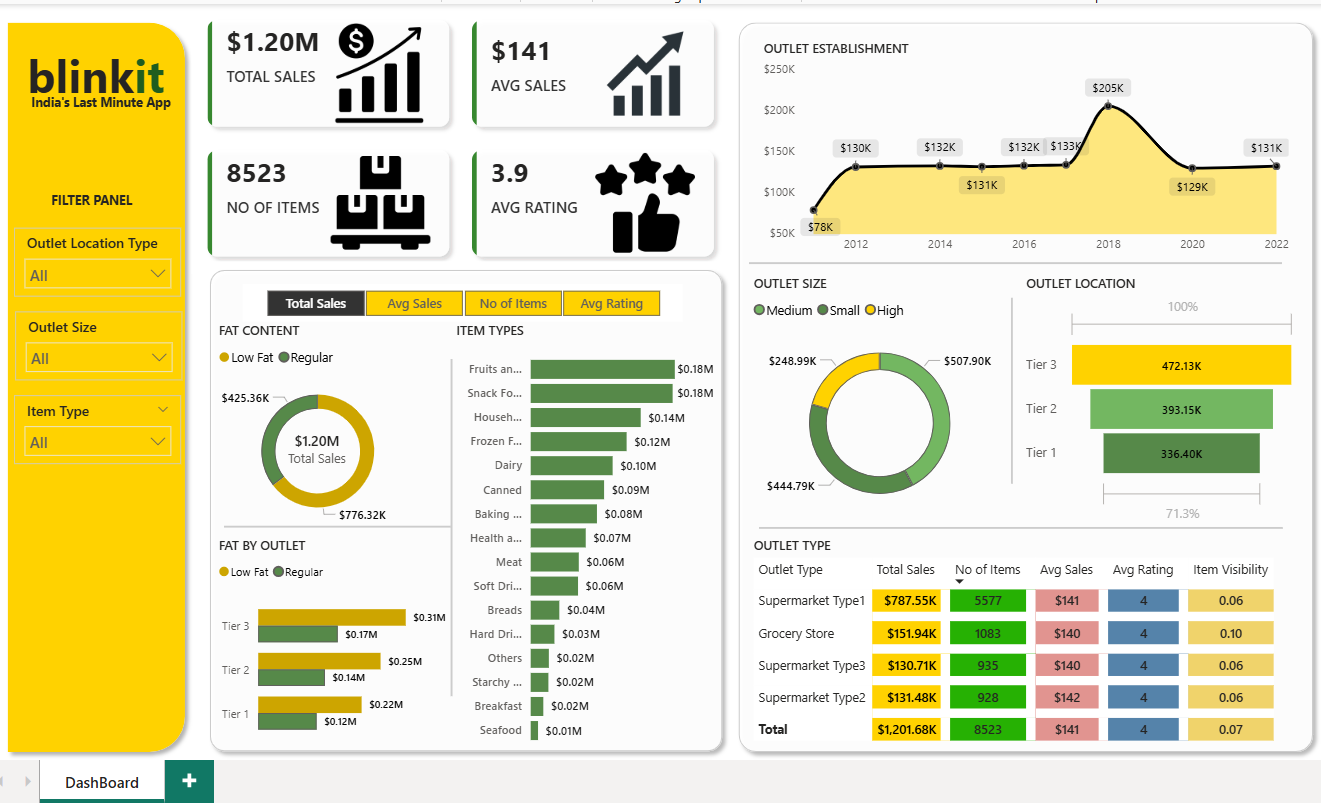

This screenshot's page, from the dashboard's own definition file:
{"tool":"powerbi","page":{"name":"DashBoard","canvas":[1400,800],"ordinal":0},"visuals":[{"type":"shape","box":[0,10,205.7,790],"z":0},{"type":"cardVisual","fields":{"Data":["BlinkIT Grocery Data.TOTAL Sales","BlinkIT Grocery Data.AVG SALES","BlinkIT Grocery Data.NO OF ITEMS","BlinkIT Grocery Data.Avg Rating"]},"box":[204.3,0,570,285.7],"z":1000},{"type":"shape","box":[214.3,272.9,560,527.1],"z":2000},{"type":"donutChart","title":"FAT CONTENT","fields":{"Y":["BlinkIT Grocery Data.Total Sales"],"Category":["BlinkIT Grocery Data.Item Fat Content"]},"box":[227.1,335.7,220,227.1],"z":3000},{"type":"slicer","fields":{"Values":["Matrics.Matrics"]},"box":[258.6,295.7,465.7,40],"z":4000},{"type":"cardVisual","fields":{"Data":["BlinkIT Grocery Data.Total Sales"]},"box":[280,418.6,112.9,105.7],"z":5000},{"type":"clusteredBarChart","title":"FAT BY OUTLET","fields":{"Y":["BlinkIT Grocery Data.Total Sales"],"Category":["BlinkIT Grocery Data.Outlet Location Type"],"Series":["BlinkIT Grocery Data.Item Fat Content"]},"box":[227.1,562.9,251.4,230],"z":6000},{"type":"shape","box":[238.6,524.3,240,58.6],"z":7000},{"type":"shape","box":[460,375.7,37.1,357.1],"z":8000},{"type":"barChart","title":"ITEM TYPES","fields":{"Y":["BlinkIT Grocery Data.Total Sales"],"Category":["BlinkIT Grocery Data.Item Type"]},"box":[478.6,335.7,282.9,458.6],"z":9000},{"type":"shape","box":[774.3,10,625.7,790],"z":10000},{"type":"lineChart","title":" OUTLET ESTABLISHMENT","fields":{"Y":["BlinkIT Grocery Data.Total Sales"],"Category":["BlinkIT Grocery Data.Outlet Establishment Year"]},"box":[804.3,37.1,565.7,235.7],"z":11000},{"type":"shape","box":[794.3,241.4,564.3,64.3],"z":12000},{"type":"donutChart","title":"OUTLET SIZE","fields":{"Y":["BlinkIT Grocery Data.Total Sales"],"Category":["BlinkIT Grocery Data.Outlet Size"]},"box":[794.3,285.7,277.1,268.6],"z":13000},{"type":"shape","box":[1057.1,311.4,30,197.1],"z":14000},{"type":"funnel","title":"OUTLET LOCATION","fields":{"Y":["Sum(BlinkIT Grocery Data.Sales)"],"Category":["BlinkIT Grocery Data.Outlet Location Type"]},"box":[1081.4,285.7,295.7,268.6],"z":15000},{"type":"pivotTable","title":"OUTLET TYPE","fields":{"Rows":["BlinkIT Grocery Data.Outlet Type"],"Values":["BlinkIT Grocery Data.Total Sales","BlinkIT Grocery Data.No of Items","BlinkIT Grocery Data.Avg Sales","BlinkIT Grocery Data.Avg Rating","Avg(BlinkIT Grocery Data.Item Visibility)"]},"box":[794.3,562.9,592.9,225.7],"z":16000},{"type":"shape","box":[804.3,525.7,554.3,58.6],"z":17000},{"type":"textbox","box":[20,37.1,165.7,82.9],"z":18000},{"type":"textbox","box":[28.8,90,166.2,38.8],"z":19000},{"type":"slicer","fields":{"Values":["BlinkIT Grocery Data.Outlet Location Type"]},"box":[15.7,237.1,177.1,72.9],"z":20000},{"type":"slicer","fields":{"Values":["BlinkIT Grocery Data.Outlet Size"]},"box":[17.1,325.7,177.1,72.9],"z":21000},{"type":"slicer","fields":{"Values":["BlinkIT Grocery Data.Item Type"]},"box":[15.7,414.3,177.1,72.9],"z":22000},{"type":"textbox","box":[50,192.9,104.3,28.6],"z":23000}]}

Visuals, with their boxes on the page's 1400x800 design canvas (x1, y1, x2, y2). These are canvas units, not pixel positions in the 1321x803 screenshot, which may show the page scaled, cropped or inside an application window:
shape: rect(0, 10, 206, 800)
cardVisual - BlinkIT Grocery Data.TOTAL Sales x BlinkIT Grocery Data.AVG SALES: rect(204, 0, 774, 286)
shape: rect(214, 273, 774, 800)
"FAT CONTENT" donutChart: rect(227, 336, 447, 563)
slicer - Matrics.Matrics: rect(259, 296, 724, 336)
cardVisual - BlinkIT Grocery Data.Total Sales: rect(280, 419, 393, 524)
"FAT BY OUTLET" clusteredBarChart: rect(227, 563, 478, 793)
shape: rect(239, 524, 479, 583)
shape: rect(460, 376, 497, 733)
"ITEM TYPES" barChart: rect(479, 336, 762, 794)
shape: rect(774, 10, 1400, 800)
" OUTLET ESTABLISHMENT" lineChart: rect(804, 37, 1370, 273)
shape: rect(794, 241, 1359, 306)
"OUTLET SIZE" donutChart: rect(794, 286, 1071, 554)
shape: rect(1057, 311, 1087, 508)
"OUTLET LOCATION" funnel: rect(1081, 286, 1377, 554)
"OUTLET TYPE" pivotTable: rect(794, 563, 1387, 789)
shape: rect(804, 526, 1359, 584)
textbox: rect(20, 37, 186, 120)
textbox: rect(29, 90, 195, 129)
slicer - BlinkIT Grocery Data.Outlet Location Type: rect(16, 237, 193, 310)
slicer - BlinkIT Grocery Data.Outlet Size: rect(17, 326, 194, 399)
slicer - BlinkIT Grocery Data.Item Type: rect(16, 414, 193, 487)
textbox: rect(50, 193, 154, 222)
